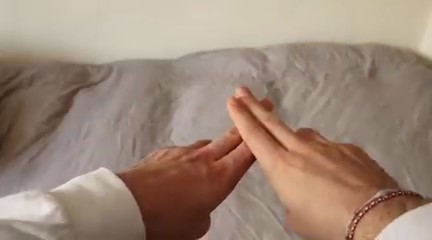F: (121, 77, 385, 240)
